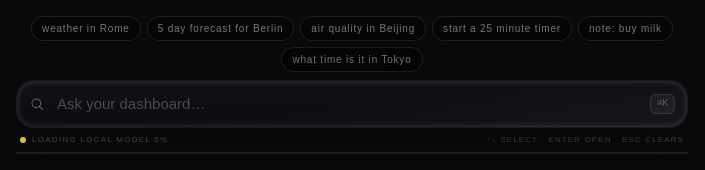
Test: the ask bar with the rules › explains an empty list while the model loads
Step 1. Type "hello" into the dropdown labelled "Ask your dashboard" → (348, 104), box [57,92,638,115]
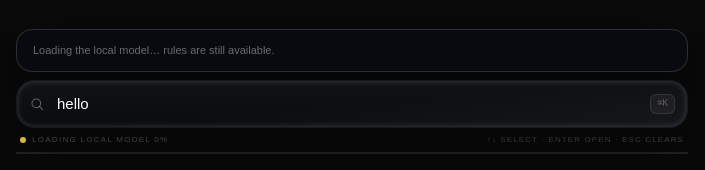
Expected: the text "Loading the local model… rules are still available." is shown, [33,44,274,56]
